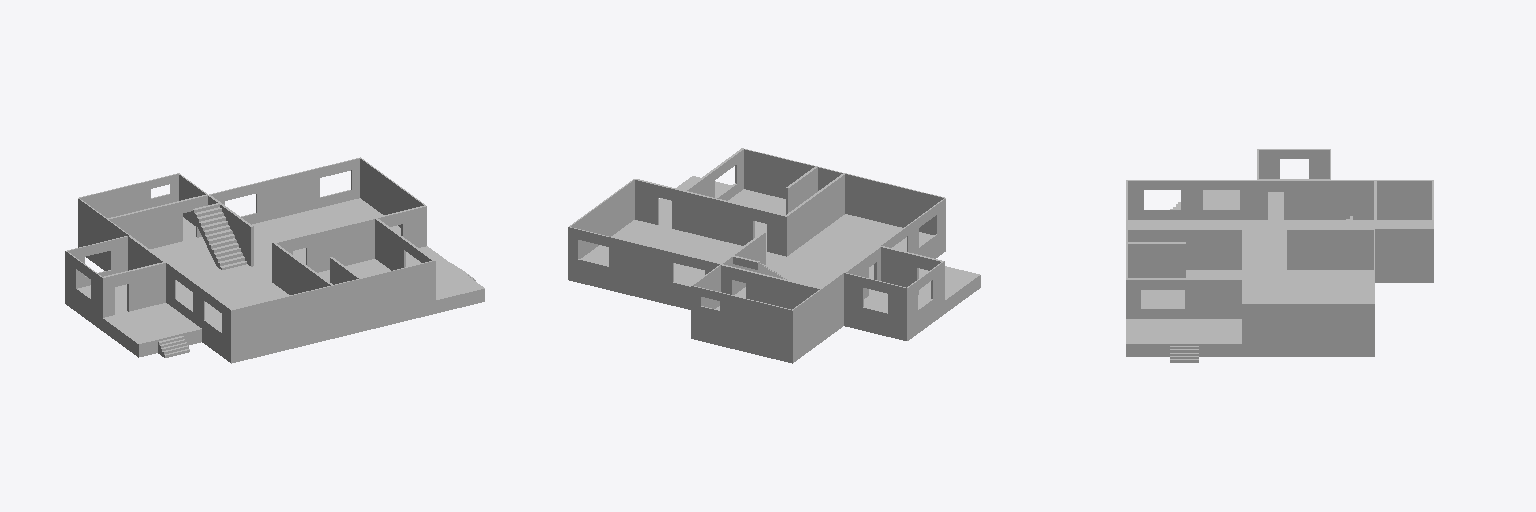
The model's file is house_first_floor.obj.
3 views of the same model, side by side, from view 1: azimuth 30°, elevation 25°; view 2: azimuth 150°, elevation 25°; view 3: azimuth 270°, elevation 25° (orthographic).
Visible parts, largest first — view 1: Cube.004_Mesh, Cube.007_Mesh, Cube.024_Mesh, Cube.010_Mesh, Cube.001_Mesh, Cube.009_Mesh, Cube.016_Mesh, Cube.023_Mesh, Cube.022_Mesh, Cube.006_Mesh, Cube.017_Mesh, Cube.060_Mesh (+10 smaller); view 2: Cube.004_Mesh, Cube.007_Mesh, Cube.024_Mesh, Cube.001_Mesh, Cube.010_Mesh, Cube.022_Mesh, Cube.057_Mesh, Cube.016_Mesh, Cube.012_Mesh, Cube.013_Mesh, Cube.021_Mesh, Cube.027_Mesh (+12 smaller); view 3: Cube.001_Mesh, Cube.021_Mesh, Cube.006_Mesh, Cube.018_Mesh, Cube.012_Mesh, Cube.007_Mesh, Cube.017_Mesh, Cube.026_Mesh, Cube.057_Mesh, Cube.015_Mesh, Cube.003_Mesh, Cube.059_Mesh (+4 smaller).
Part boxes in pixels (bbox=[...]): Cube.004_Mesh: bbox=[231, 261, 433, 349]; Cube.007_Mesh: bbox=[107, 237, 332, 363]; Cube.024_Mesh: bbox=[272, 205, 425, 282]; Cube.010_Mesh: bbox=[209, 158, 359, 224]; Cube.001_Mesh: bbox=[252, 198, 400, 280]; Cube.009_Mesh: bbox=[102, 303, 201, 357]; Cube.016_Mesh: bbox=[107, 194, 207, 248]; Cube.023_Mesh: bbox=[101, 262, 166, 317]; Cube.022_Mesh: bbox=[79, 173, 178, 217]; Cube.006_Mesh: bbox=[406, 246, 484, 313]; Cube.017_Mesh: bbox=[166, 263, 232, 349]; Cube.060_Mesh: bbox=[193, 203, 246, 269]; Cube.004_Mesh: bbox=[744, 149, 944, 234]; Cube.007_Mesh: bbox=[734, 214, 945, 341]; Cube.024_Mesh: bbox=[635, 179, 787, 255]; Cube.001_Mesh: bbox=[568, 220, 784, 309]; Cube.010_Mesh: bbox=[568, 227, 719, 296]; Cube.022_Mesh: bbox=[691, 285, 792, 349]; Cube.057_Mesh: bbox=[784, 173, 845, 256]; Cube.016_Mesh: bbox=[721, 264, 821, 309]; Cube.012_Mesh: bbox=[791, 273, 843, 349]; Cube.013_Mesh: bbox=[843, 272, 907, 327]; Cube.021_Mesh: bbox=[568, 179, 634, 266]; Cube.027_Mesh: bbox=[844, 290, 943, 340]; Cube.001_Mesh: bbox=[1243, 269, 1374, 356]; Cube.021_Mesh: bbox=[1242, 303, 1374, 343]; Cube.006_Mesh: bbox=[1126, 319, 1242, 356]; Cube.018_Mesh: bbox=[1126, 278, 1241, 318]; Cube.012_Mesh: bbox=[1331, 180, 1433, 219]; Cube.007_Mesh: bbox=[1128, 220, 1373, 268]; Cube.017_Mesh: bbox=[1126, 180, 1257, 219]; Cube.026_Mesh: bbox=[1287, 229, 1373, 269]; Cube.057_Mesh: bbox=[1126, 229, 1241, 269]; Cube.015_Mesh: bbox=[1258, 179, 1330, 219]; Cube.003_Mesh: bbox=[1375, 229, 1433, 268]; Cube.059_Mesh: bbox=[1126, 242, 1185, 277].
Size of the model in its own units: 52 by 8 by 42.